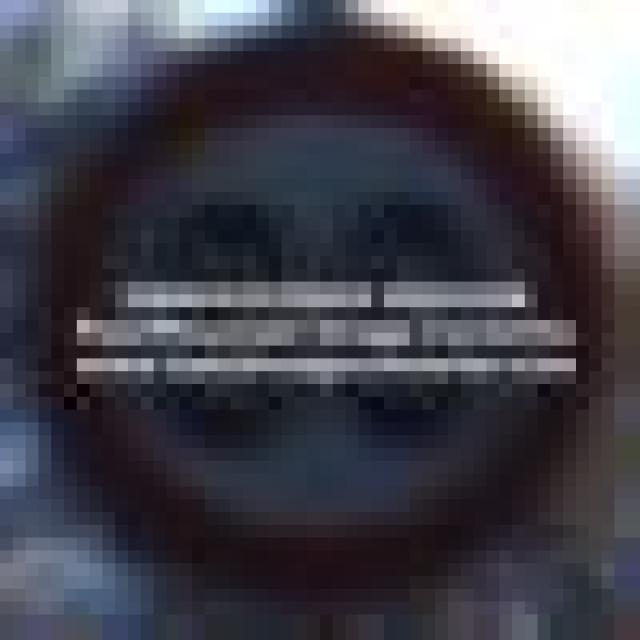speed_limit_50: (26, 13, 588, 576)
